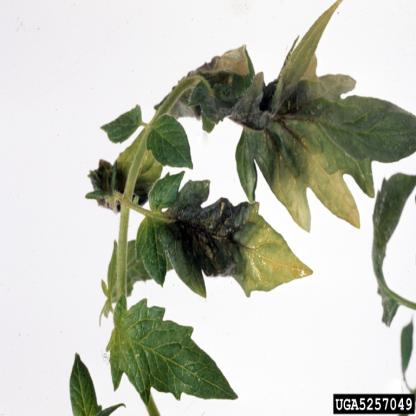Tomato leaf late blight: (236, 75, 415, 230), (138, 177, 316, 305), (90, 287, 246, 405)
